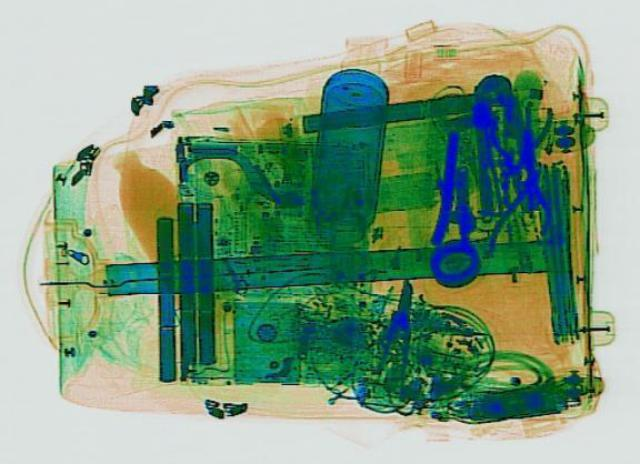Pliers: (365, 276, 425, 395), (488, 171, 552, 251), (459, 102, 519, 185), (520, 98, 552, 151)
